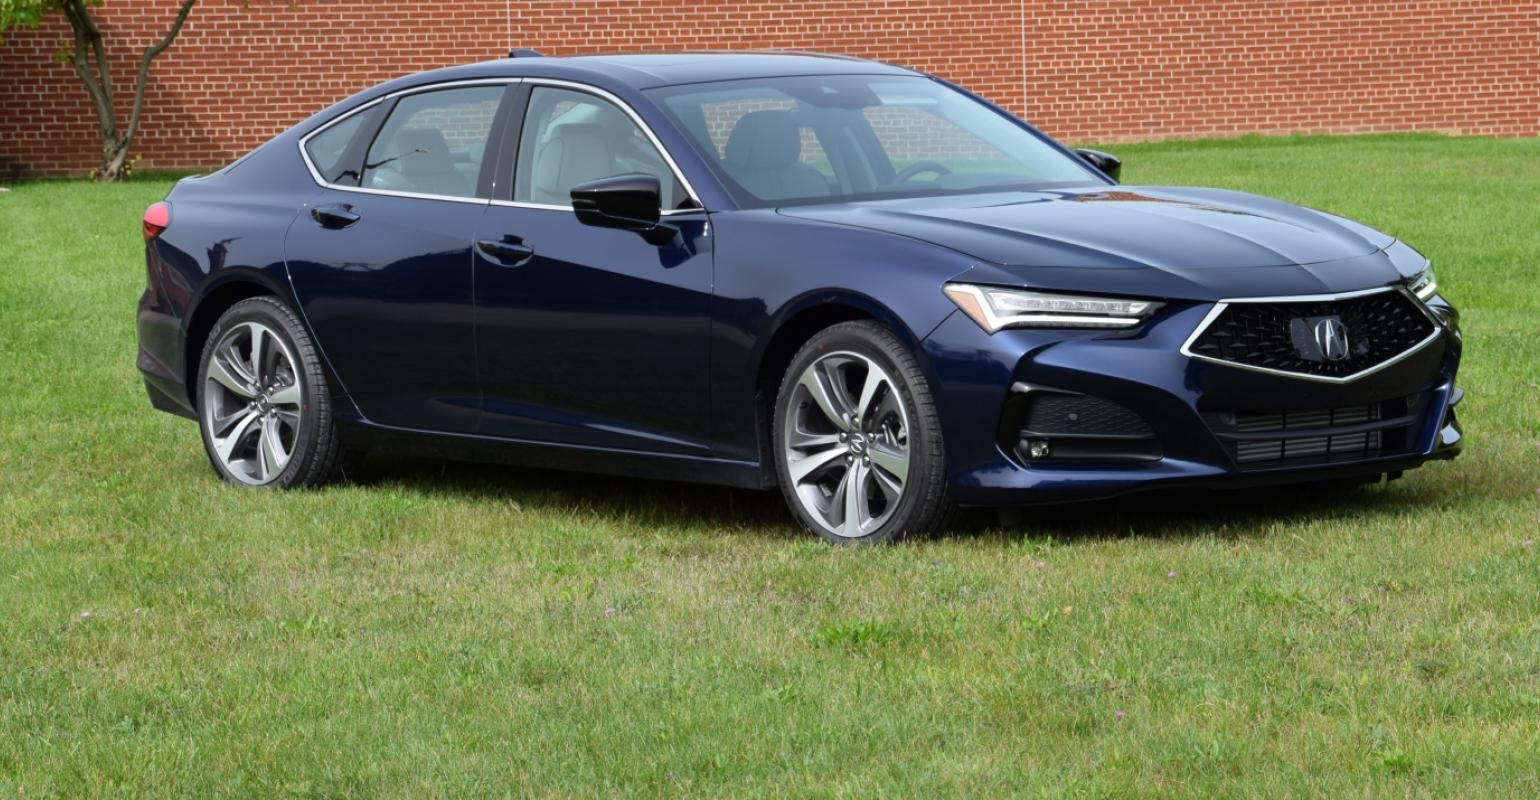car: (134, 49, 1465, 547)
